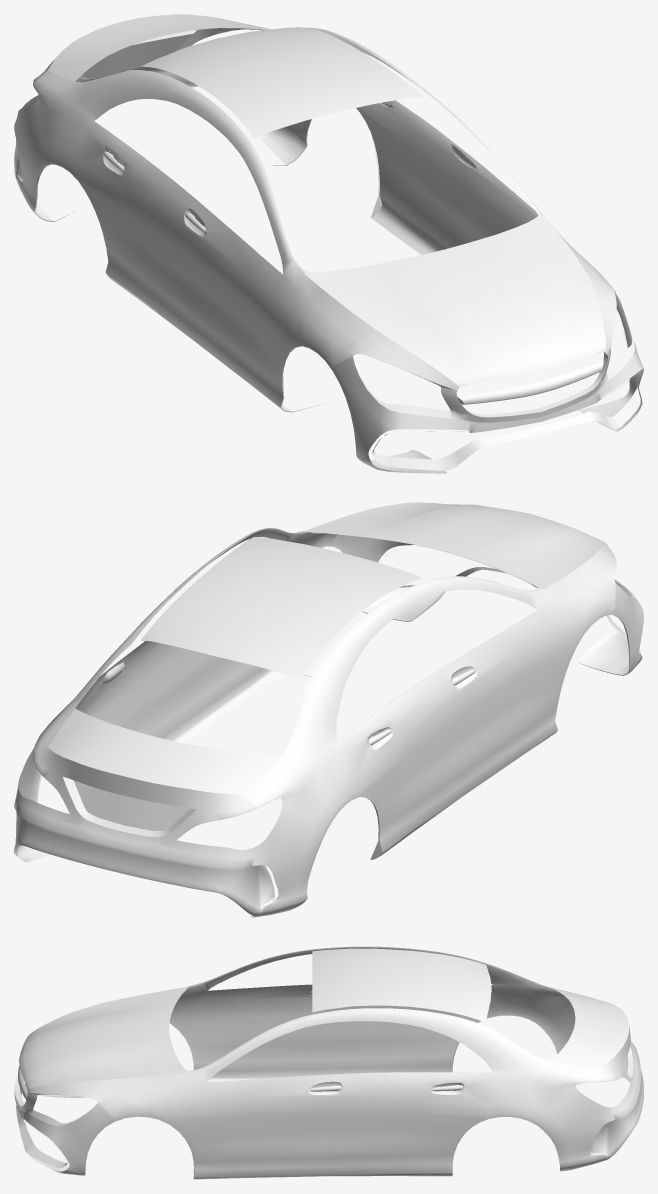
The model's file is Paint_LOD0.obj.
The picture shows the model from 3 angles, top to bottom: view 1: azimuth 30°, elevation 25°; view 2: azimuth 150°, elevation 25°; view 3: azimuth 270°, elevation 25°; orthographic projection. The views are drawn at different scales.
Visible parts, largest first — view 1: Paint_LOD0_0; view 2: Paint_LOD0_0; view 3: Paint_LOD0_0.
Boxes of the visible parts, x1,y1,x2,y2 form: Paint_LOD0_0: [14, 14, 643, 473]; Paint_LOD0_0: [14, 502, 643, 917]; Paint_LOD0_0: [14, 946, 643, 1179].
Bounding box in the file's own units: 1.76 × 1.29 × 4.62.
Materials: 1 (1 with a texture image).
